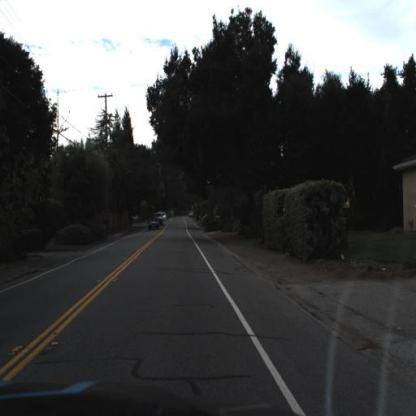car: (146, 213, 162, 232)
